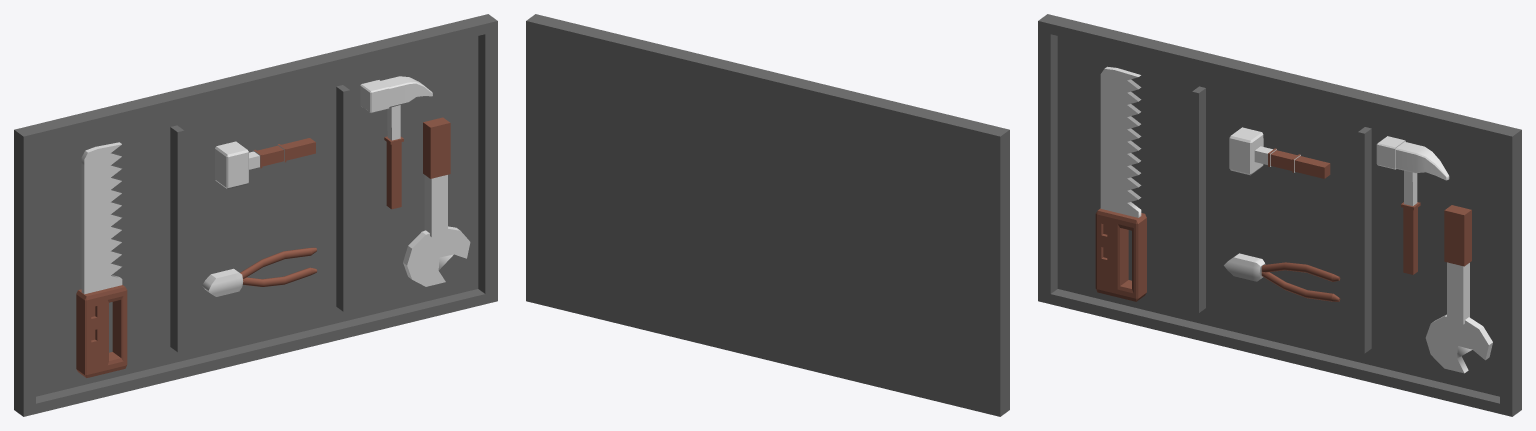
Rendered from geochidae.fbx.
3 views of the same model, side by side, from view 1: azimuth 30°, elevation 25°; view 2: azimuth 150°, elevation 25°; view 3: azimuth 330°, elevation 25° (orthographic).
Visible parts, largest first — view 1: pCube4, pCube7, pCylinder4, pCube10, pCube8, pCylinder2; view 2: pCube4; view 3: pCube4, pCube7, pCylinder4, pCube10, pCube8, pCylinder2.
Part boxes in pixels (left/top/right/bottom): pCube4: left=14, top=14, right=497, bottom=416; pCube7: left=76, top=142, right=127, bottom=377; pCylinder4: left=403, top=117, right=470, bottom=286; pCube10: left=360, top=76, right=432, bottom=209; pCube8: left=215, top=138, right=315, bottom=189; pCylinder2: left=202, top=247, right=317, bottom=296; pCube4: left=526, top=14, right=1009, bottom=416; pCube4: left=1038, top=14, right=1521, bottom=416; pCube7: left=1095, top=66, right=1146, bottom=301; pCylinder4: left=1425, top=205, right=1492, bottom=373; pCube10: left=1376, top=136, right=1449, bottom=274; pCube8: left=1229, top=127, right=1330, bottom=178; pCylinder2: left=1224, top=253, right=1340, bottom=301.
Size of the model in its own units: 28.96 by 16.36 by 1.68.
